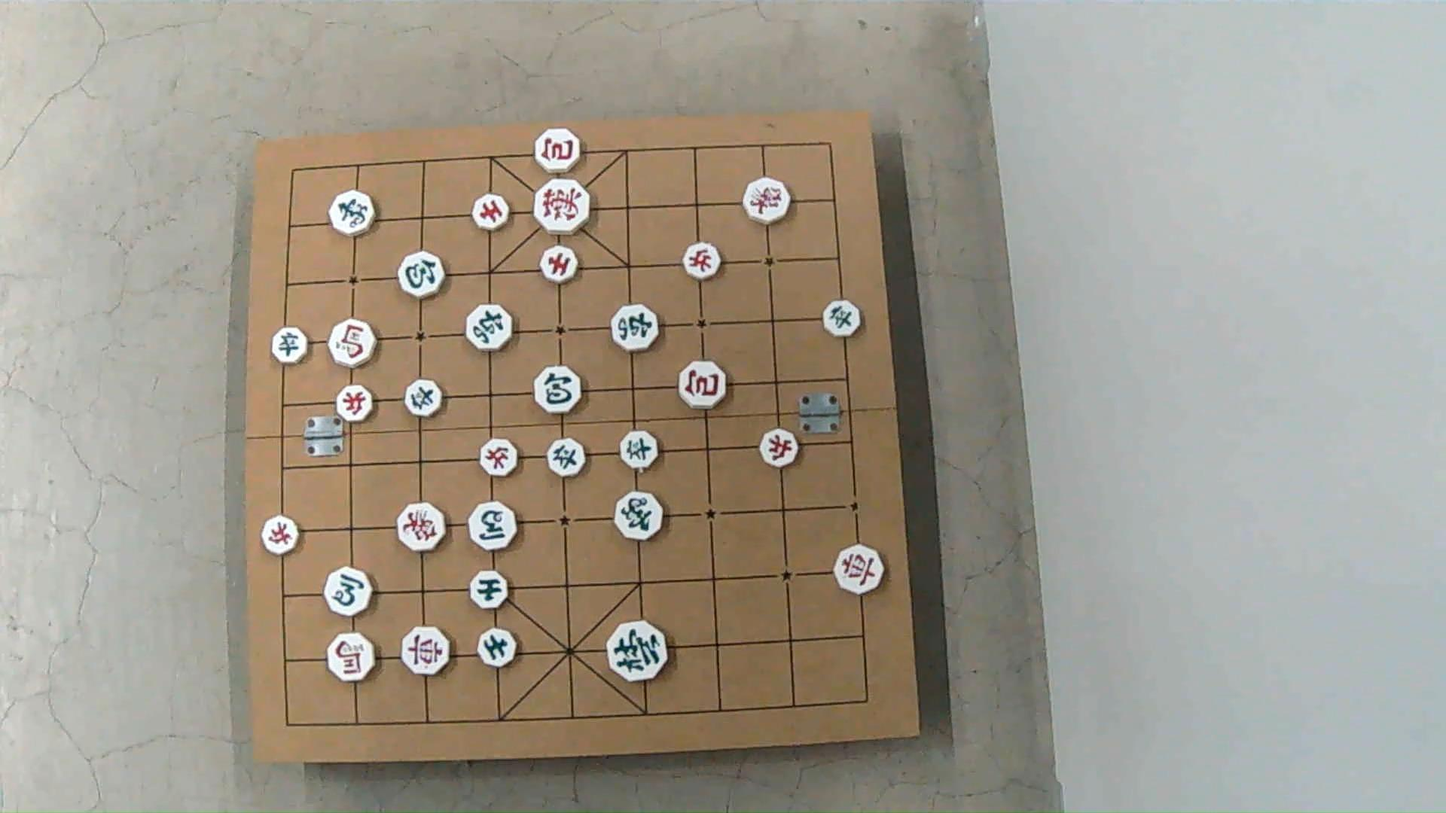cha_green: (465, 303, 512, 351), (612, 306, 660, 353)
cha_red: (837, 545, 886, 593), (402, 626, 450, 674)
jol_green: (622, 431, 660, 470), (548, 439, 586, 477), (825, 300, 862, 337), (404, 380, 441, 417), (270, 328, 306, 366)
jol_red: (759, 429, 799, 467), (479, 437, 517, 476), (260, 516, 297, 556), (679, 243, 718, 280), (340, 387, 376, 424)
ma_green: (469, 501, 517, 550), (326, 568, 373, 616)
ma_red: (327, 635, 375, 684), (329, 320, 375, 368)
po_green: (536, 367, 583, 416), (397, 251, 445, 298)
po_red: (681, 363, 728, 410), (535, 129, 581, 173)
sa_green: (471, 574, 511, 611), (479, 628, 516, 667)
sa_red: (542, 247, 578, 285), (472, 193, 508, 230)
sang_green: (614, 490, 664, 540), (331, 190, 376, 236)
sang_red: (398, 502, 446, 551), (745, 178, 792, 224)
wang_green: (609, 623, 667, 684)
wang_red: (534, 181, 590, 236)
